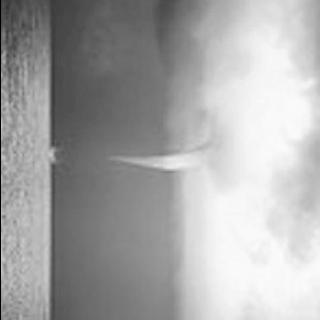Altocumulus: (78, 0, 320, 320)
